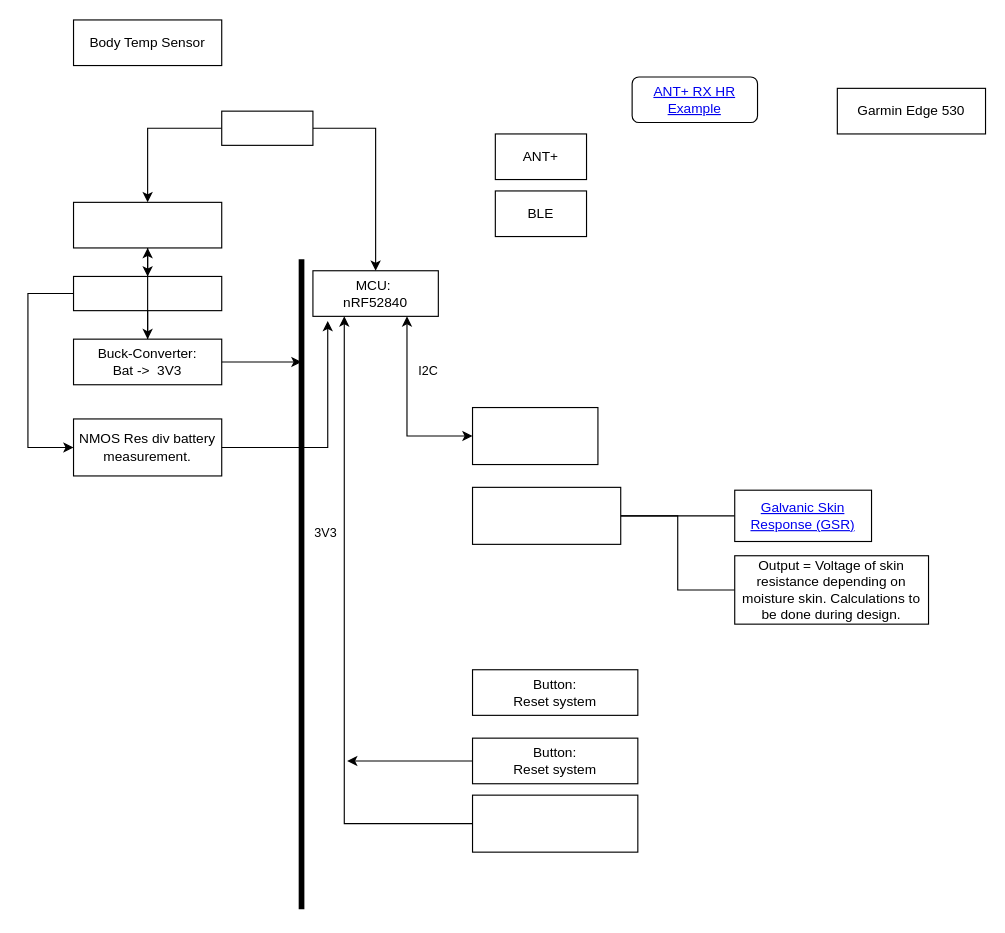
This 1005x933 diagram has some shape labels left out. Here are the shapes that lost their labels. From the top down, the box of each, then its label:
(221, 110, 313, 145): USB-C 2.0
(72, 201, 222, 248): Bat charger: MCP73833
(72, 275, 222, 311): Battery: 3.7V 500mAh
(471, 406, 598, 465): Temp sensor: MAX30208CLB+T
(471, 486, 621, 544): Sweat rate: Gold test pins, 2 cm apart + op-amp circuit
(471, 794, 638, 852): Button: Activate system out of deep sleep (Interrupt)
